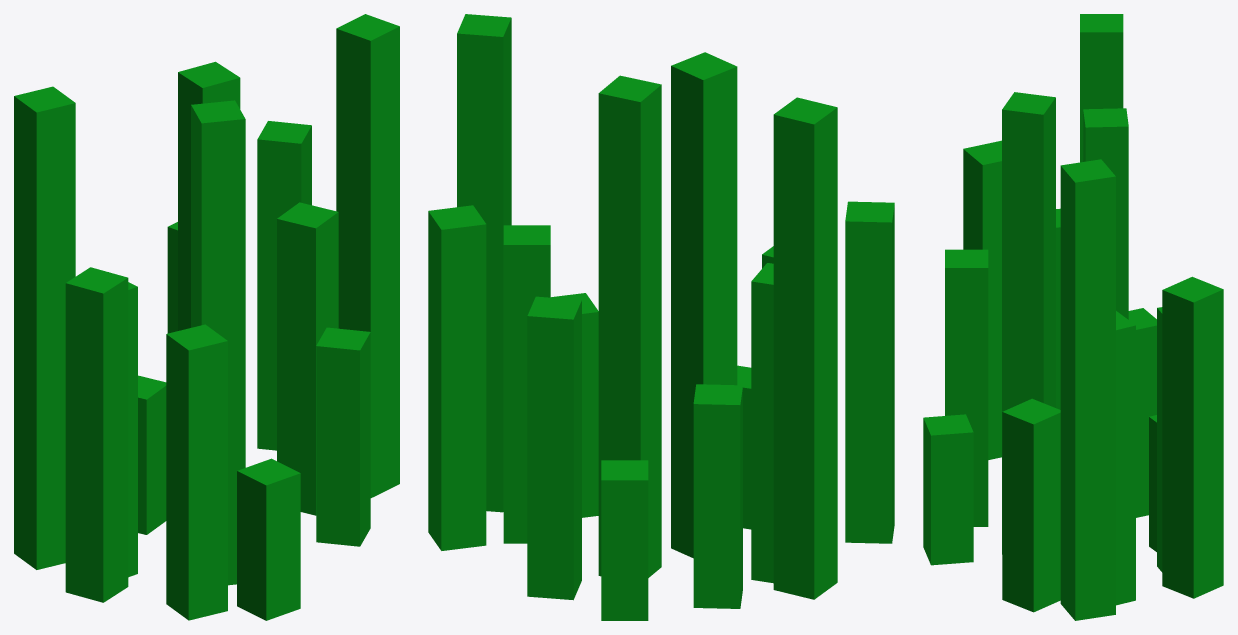
Rendered from seaweed.fbx.
The picture shows the model from 3 angles, left to right: view 1: azimuth 30°, elevation 25°; view 2: azimuth 150°, elevation 25°; view 3: azimuth 270°, elevation 25°; orthographic projection. The views are drawn at different scales.
Parts seen in each view (by area): view 1: Cube; view 2: Cube; view 3: Cube.
Part boxes in pixels (x1=…): Cube: x1=14, y1=14, x2=399, y2=620; Cube: x1=428, y1=14, x2=894, y2=620; Cube: x1=923, y1=14, x2=1223, y2=620.
Size of the model in its own units: 170 by 212 by 124.
